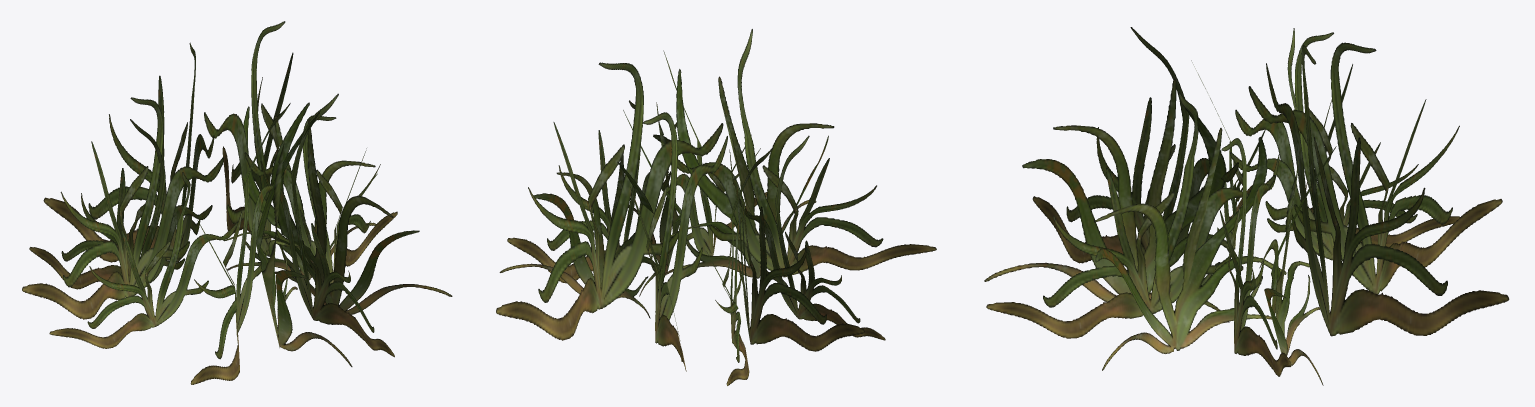
File: Grass_Medium.fbx
3 renders of one model, left to right at view 1: azimuth 30°, elevation 25°; view 2: azimuth 150°, elevation 25°; view 3: azimuth 270°, elevation 25°, orthographic. The views are drawn at different scales.
Parts seen in each view (by area): view 1: Grass_Medium; view 2: Grass_Medium; view 3: Grass_Medium.
Boxes of the visible parts, x1,y1,x2,y2 form: Grass_Medium: (22, 21, 452, 384); Grass_Medium: (496, 29, 936, 385); Grass_Medium: (984, 27, 1509, 385).
Bounding box in the file's own units: 0.6104 × 0.4 × 0.65.
Materials: 1 (1 with a texture image).
